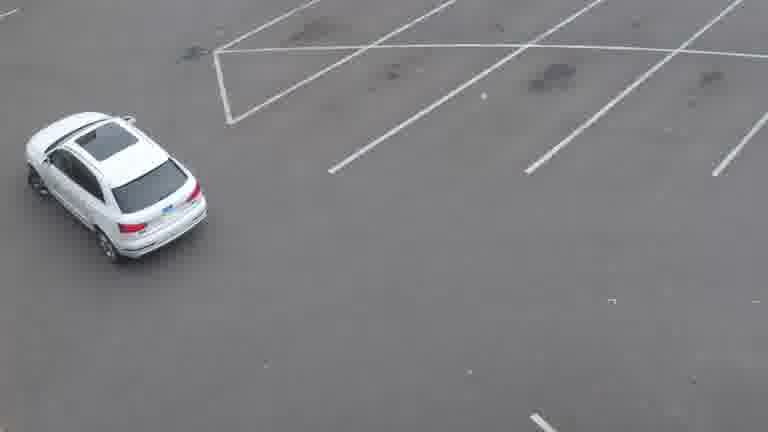person: (19, 112, 215, 273)
